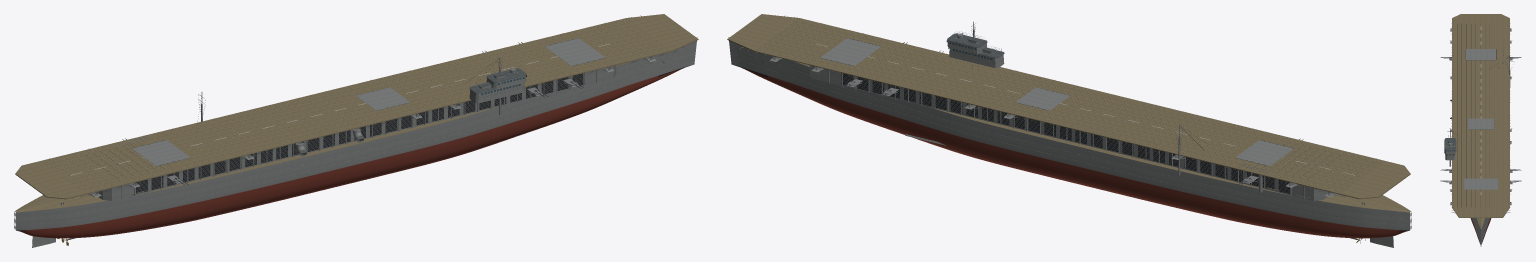
The model's file is demo-soryu.glb.
The picture shows the model from 3 angles, left to right: view 1: azimuth 30°, elevation 25°; view 2: azimuth 150°, elevation 25°; view 3: azimuth 270°, elevation 25°; orthographic projection. The views are drawn at different scales.
Visible parts, largest first — view 1: Soryu, Midway1942; view 2: Soryu, Midway1942; view 3: Soryu, Midway1942.
Part boxes in pixels (left/top/right/bottom): Soryu, Midway1942: left=14, top=14, right=698, bottom=247; Soryu, Midway1942: left=727, top=14, right=1411, bottom=247; Soryu, Midway1942: left=1440, top=14, right=1521, bottom=246.
Size of the model in its own units: 228 by 32.6 by 36.52.
Materials: 10 (9 with a texture image).
